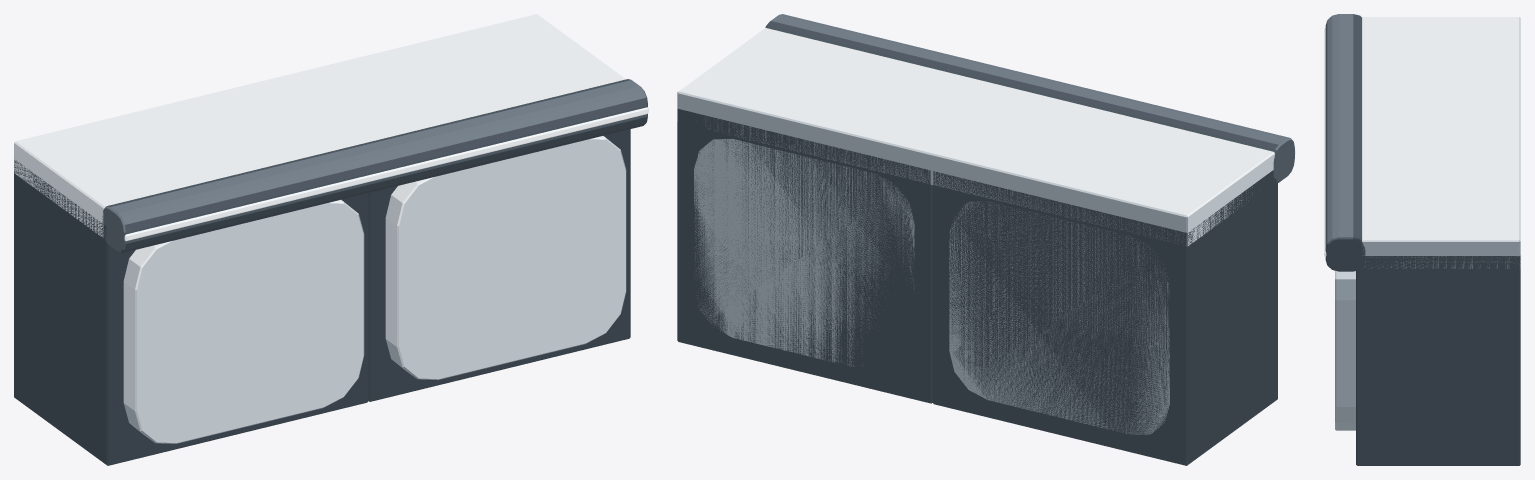
File: Terrain_TopRun2.gltf
3 renders of one model, left to right at view 1: azimuth 30°, elevation 25°; view 2: azimuth 150°, elevation 25°; view 3: azimuth 270°, elevation 25°, orthographic. The views are drawn at different scales.
Parts seen in each view (by area): view 1: Terrain_TopRun2_baked; view 2: Terrain_TopRun2_baked; view 3: Terrain_TopRun2_baked.
Part boxes in pixels (x1,y1,x2,y2): Terrain_TopRun2_baked: [14, 14, 648, 465]; Terrain_TopRun2_baked: [677, 14, 1295, 465]; Terrain_TopRun2_baked: [1324, 14, 1520, 465].
Size of the model in its own units: 2 by 0.9495 by 0.74.
